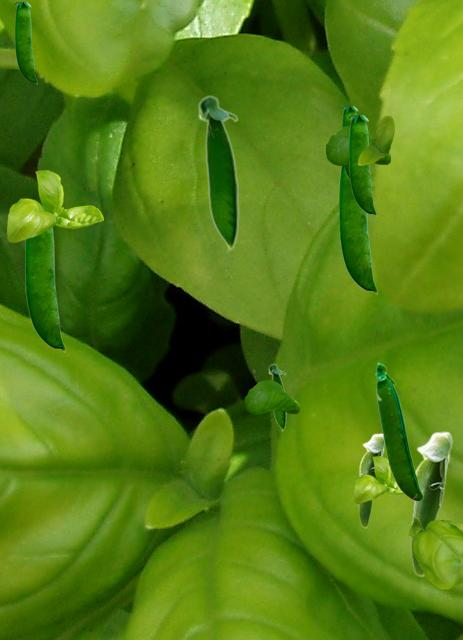pea: (375, 362, 422, 500), (197, 94, 238, 252), (410, 431, 452, 576), (25, 228, 64, 351), (339, 165, 376, 293), (349, 115, 375, 215), (358, 433, 384, 527), (15, 2, 36, 83), (268, 363, 285, 431), (342, 106, 358, 178)
